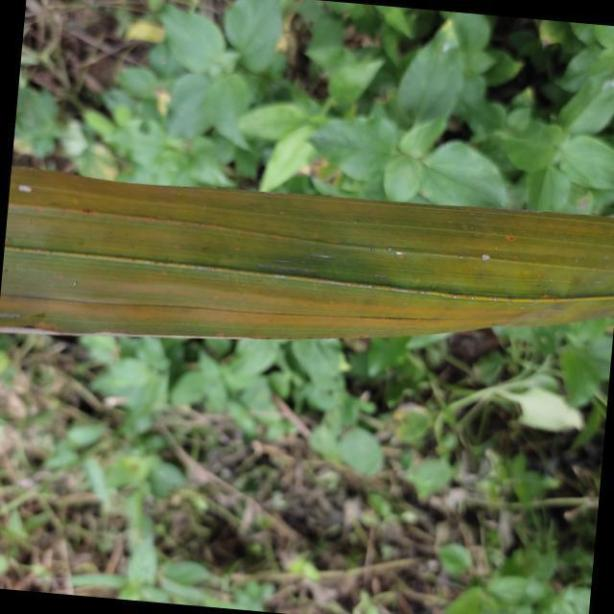Megnesium: (3, 158, 614, 341)
